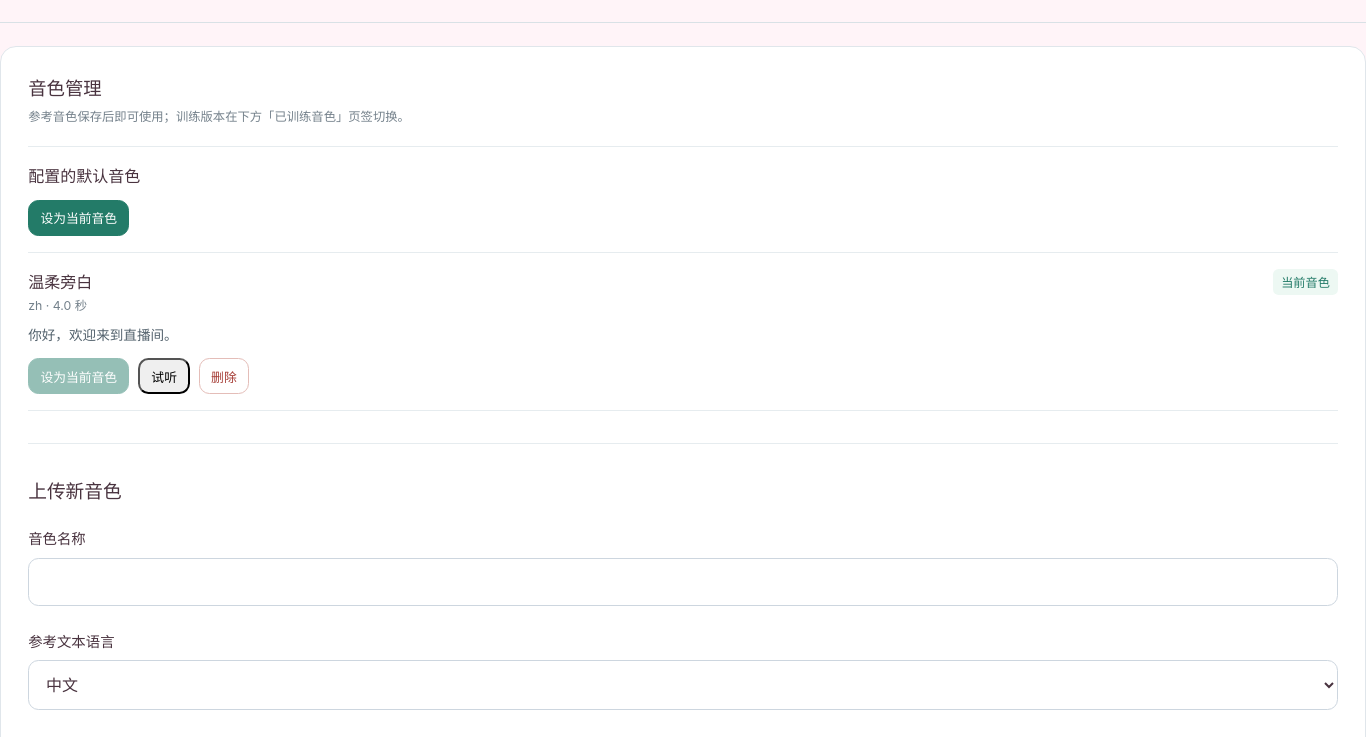
it: 音色管理 › 删除失败显示原因并保留音色
What coordinates should you click on to do the following:
click the button with aria-label "删除音色 温柔旁白"
I would click on:
 (224, 376)
Its box is [199,358,249,394].
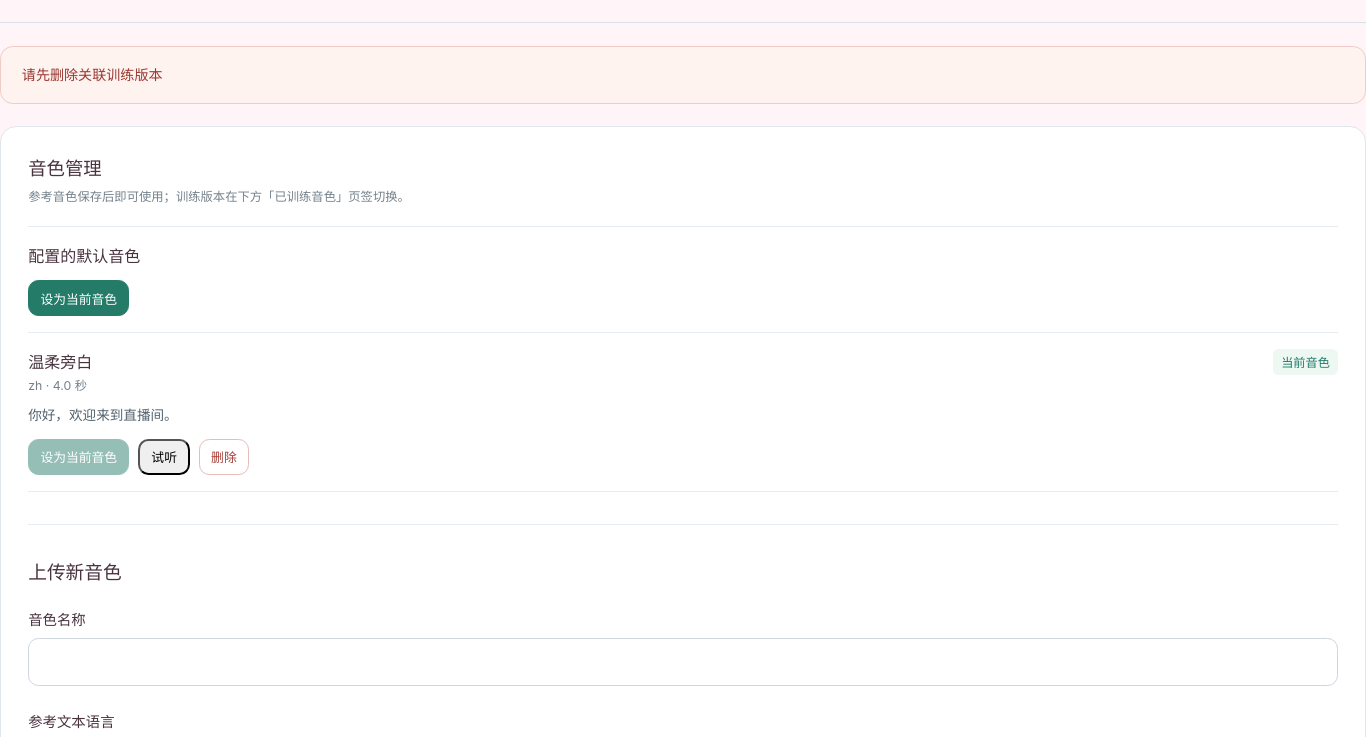
Expected: the text "温柔旁白" is shown, [28,349,92,373]
Expected: the message reads "请先删除关联训练版本", [22,66,163,83]
